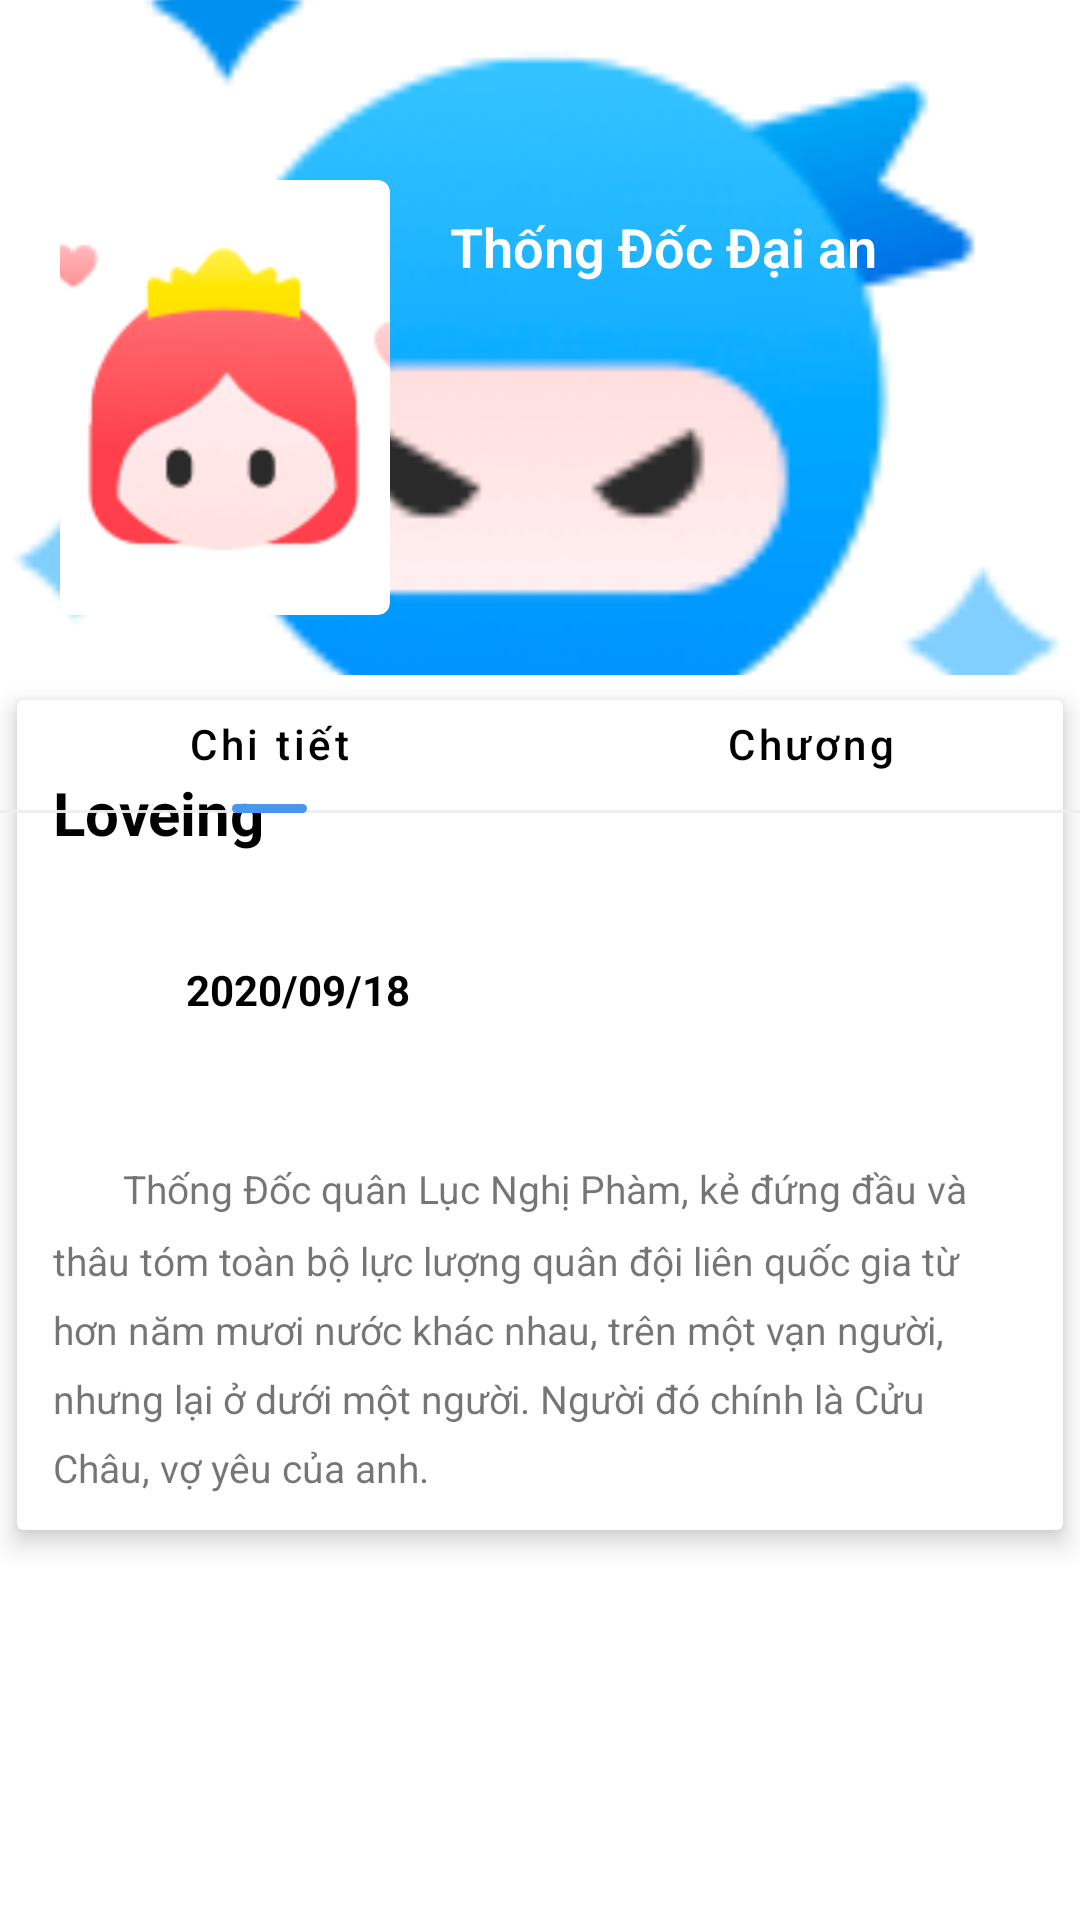

Point at icon controls on the screen. Image size 1080 x 1920, points as (x,y).
girl: (210,397)
